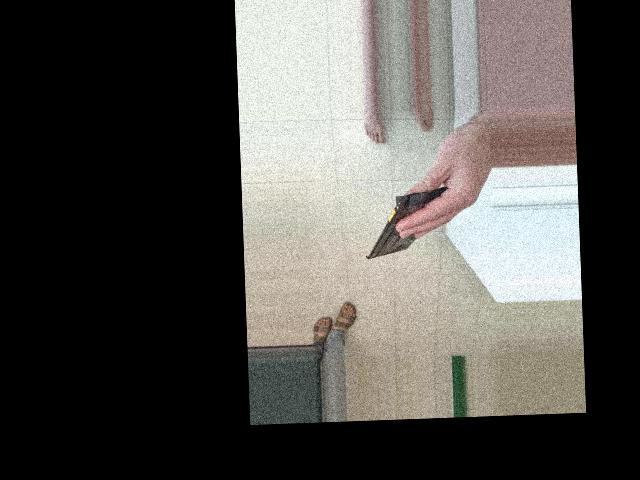chocolate: (315, 204, 401, 306)
